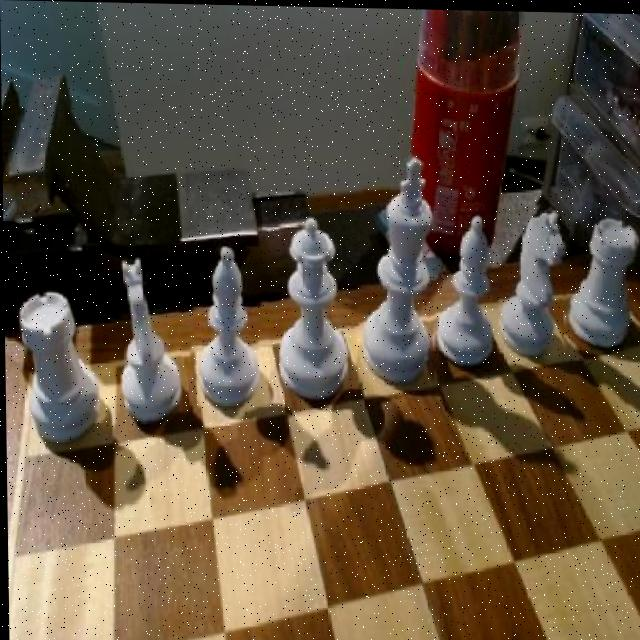black-rook: (187, 243, 262, 413), (429, 210, 492, 378)
white-bishop: (355, 149, 440, 386)
white-king: (107, 256, 180, 426), (494, 200, 569, 357)
white-pawn: (267, 214, 351, 404)
white-queen: (12, 289, 101, 458), (558, 205, 640, 358)
